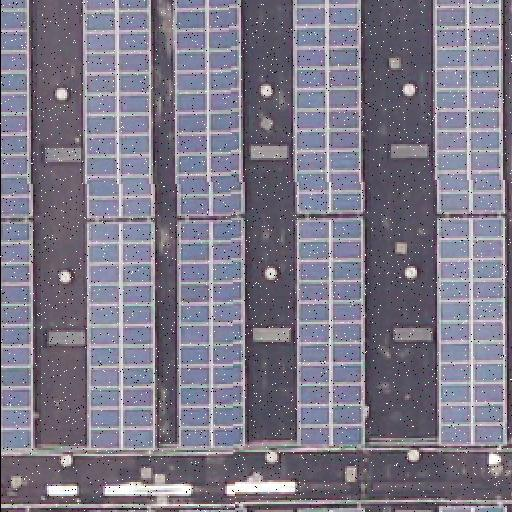solar-panel: (296, 217, 364, 447), (438, 217, 506, 447), (88, 222, 156, 450), (179, 218, 245, 450), (174, 0, 242, 218), (434, 1, 502, 215), (294, 0, 362, 212), (87, 0, 153, 218), (0, 221, 32, 451), (1, 0, 31, 216), (86, 504, 154, 512), (179, 504, 245, 512), (439, 504, 505, 512), (299, 508, 365, 512)
